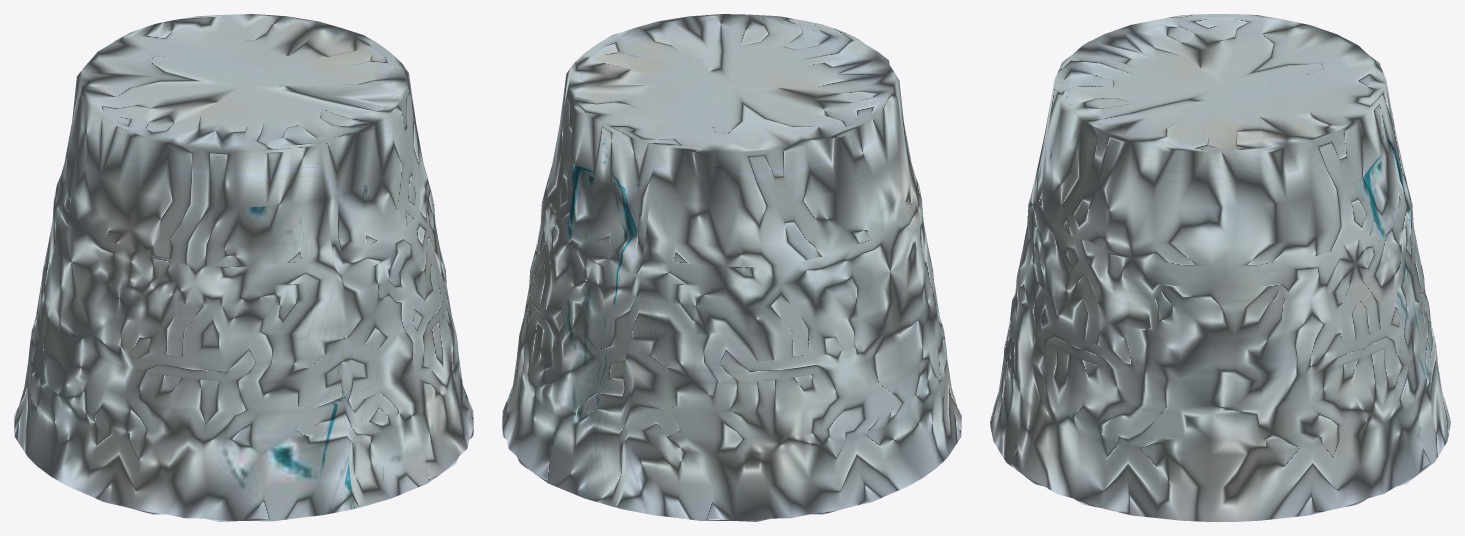
File: cleaning_bucket_iron_a01.glb
The picture shows the model from 3 angles, left to right: view 1: azimuth 30°, elevation 25°; view 2: azimuth 150°, elevation 25°; view 3: azimuth 270°, elevation 25°; orthographic projection.
Parts seen in each view (by area): view 1: prop; view 2: prop; view 3: prop.
Part boxes in pixels (x1,y1,x2,y2): prop: (14, 14, 473, 521); prop: (502, 14, 961, 521); prop: (990, 14, 1450, 521).
Size of the model in its own units: 0.6857 by 0.5641 by 0.6868.
1 material, 1 textured.
